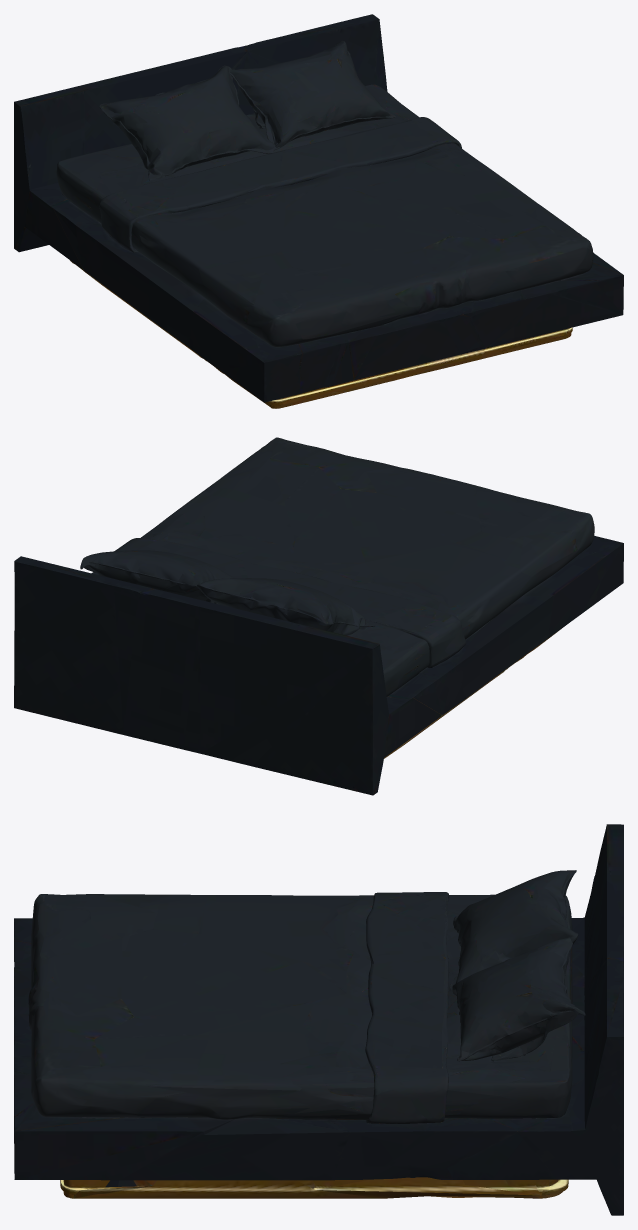
File: bed.glb
3 renders of one model, top to bottom at view 1: azimuth 30°, elevation 25°; view 2: azimuth 150°, elevation 25°; view 3: azimuth 270°, elevation 25°, orthographic. The views are drawn at different scales.
Bounding box in the file's own units: 1.58 × 0.6386 × 1.9.
Materials: 1 (1 with a texture image).
